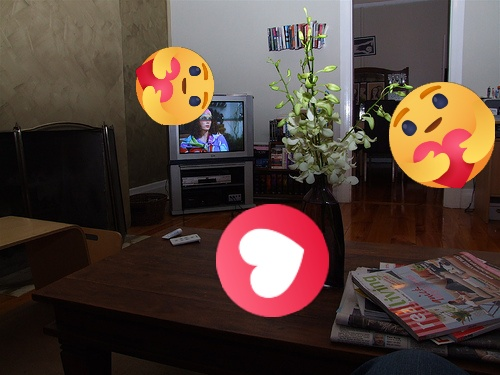care: (389, 82, 495, 188), (136, 47, 214, 125)
love: (216, 204, 329, 317)
